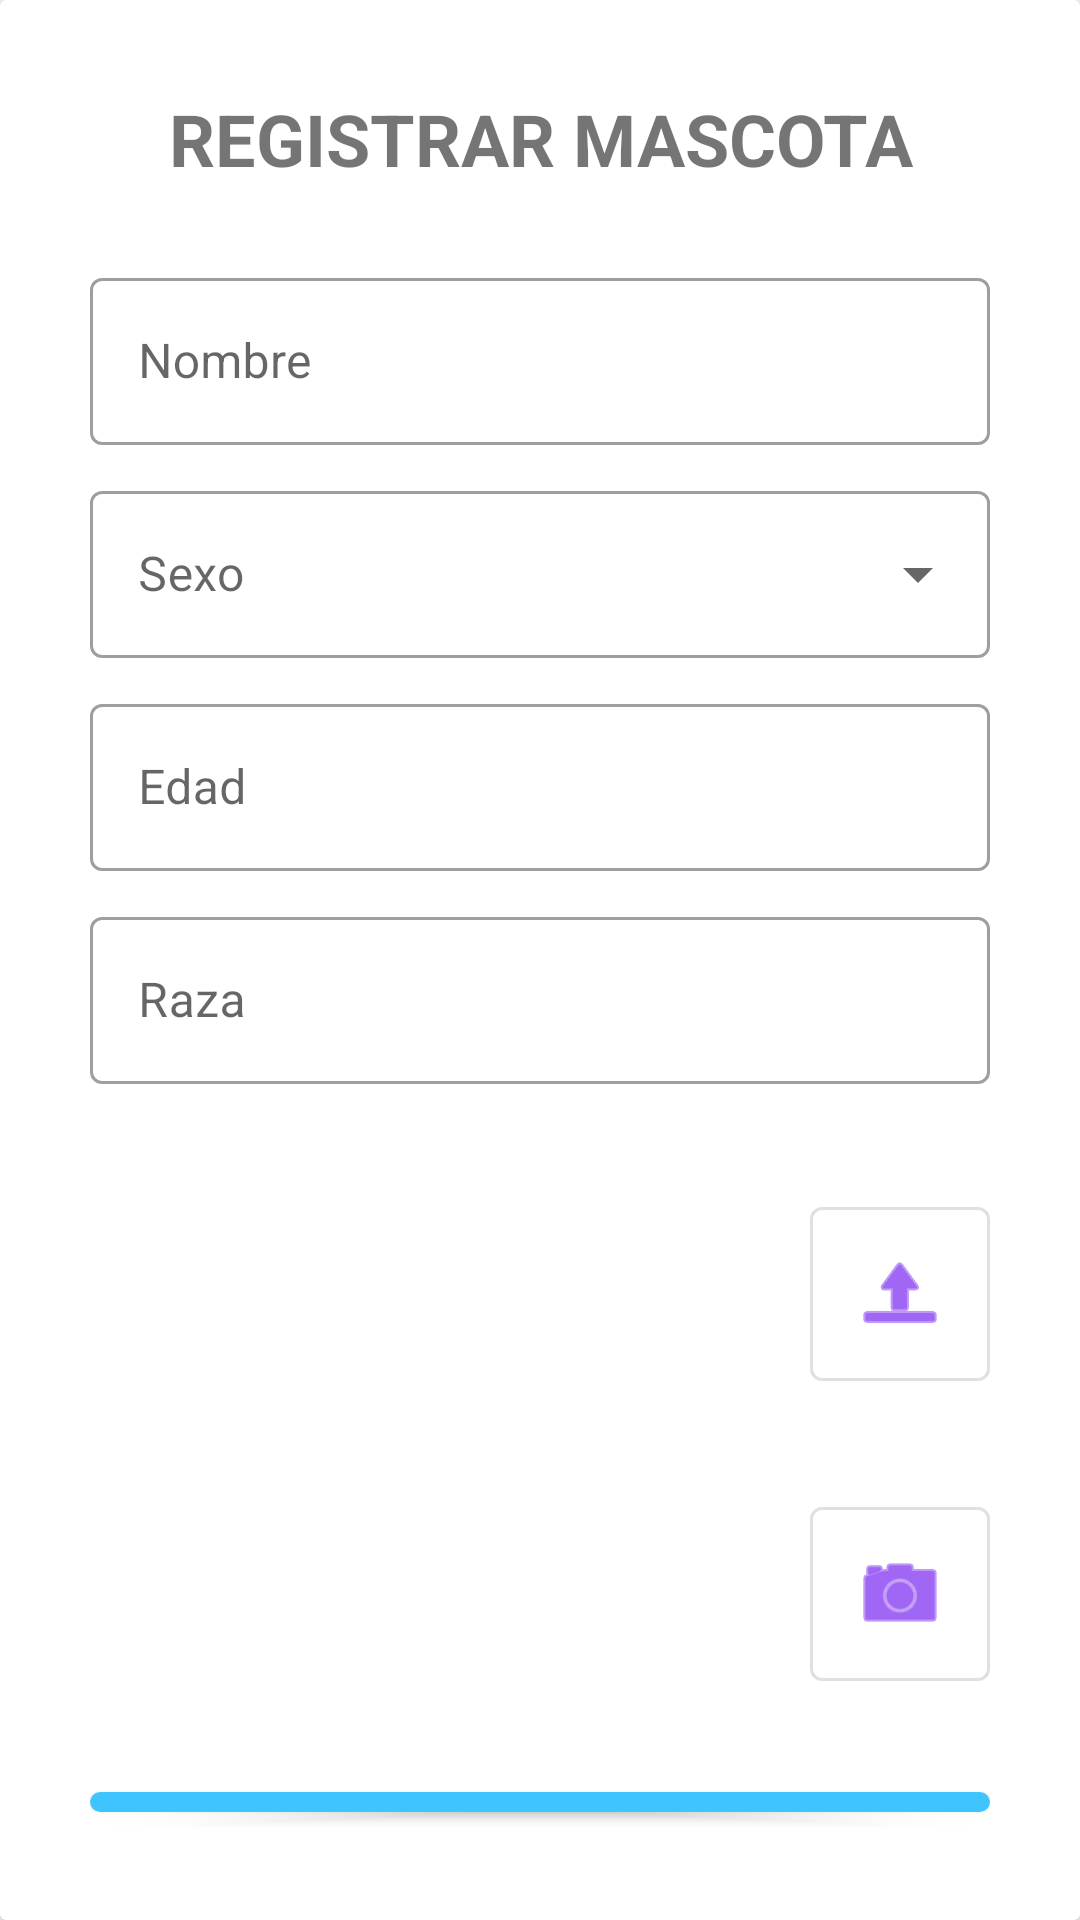

Where icons sit on this 1080px x 1920px app screen, as (x1, y1, x2, y2):
camera: (810, 1507, 990, 1681)
upload you tube: (810, 1207, 990, 1381)
